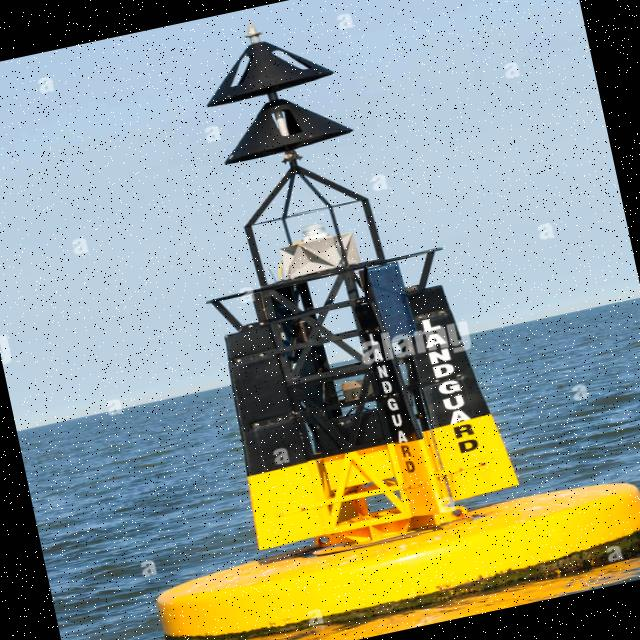marque: (58, 1, 640, 640)
